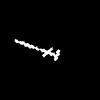double_crochet: (15, 39, 59, 60)
